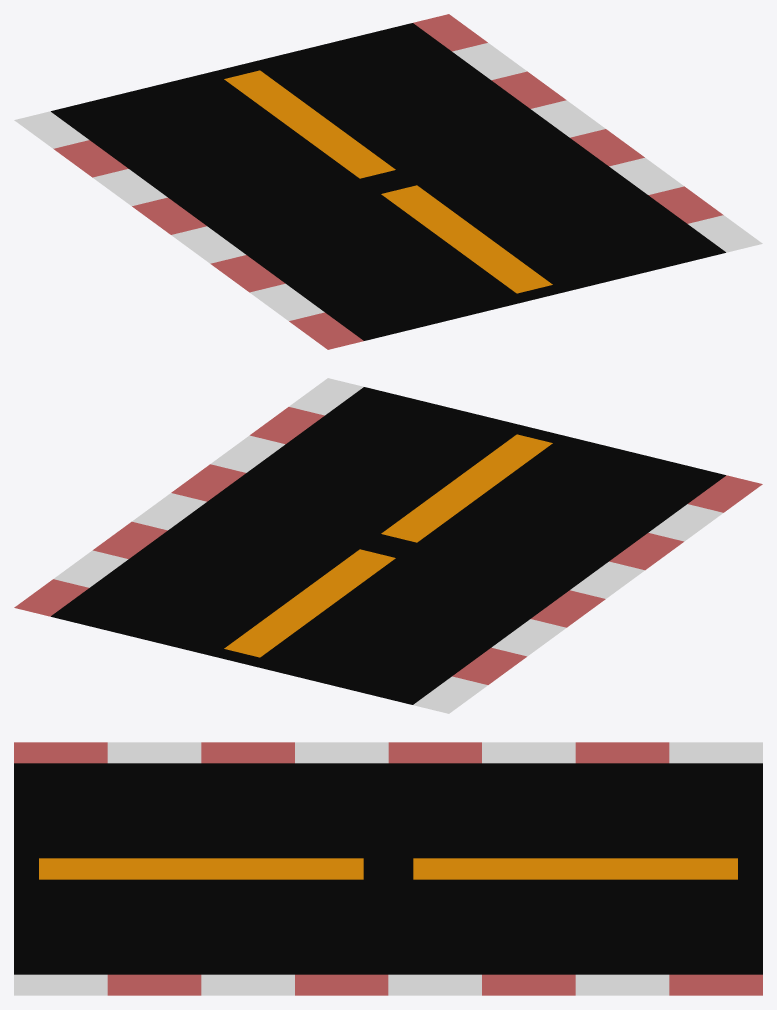
The model's file is Just Track Straight.fbx.
3 views of the same model, one above another, from view 1: azimuth 30°, elevation 25°; view 2: azimuth 150°, elevation 25°; view 3: azimuth 270°, elevation 25° (orthographic). The views are drawn at different scales.
Parts seen in each view (by area): view 1: Just Track Straight; view 2: Just Track Straight; view 3: Just Track Straight.
Boxes of the visible parts, box(x1,y1,x2,y2) form: Just Track Straight: box(14, 14, 762, 349); Just Track Straight: box(14, 378, 762, 713); Just Track Straight: box(14, 742, 762, 995).
Bounding box in the file's own units: 2.4 × 0 × 3.
